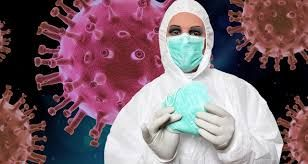with-mask: (160, 7, 209, 73)
